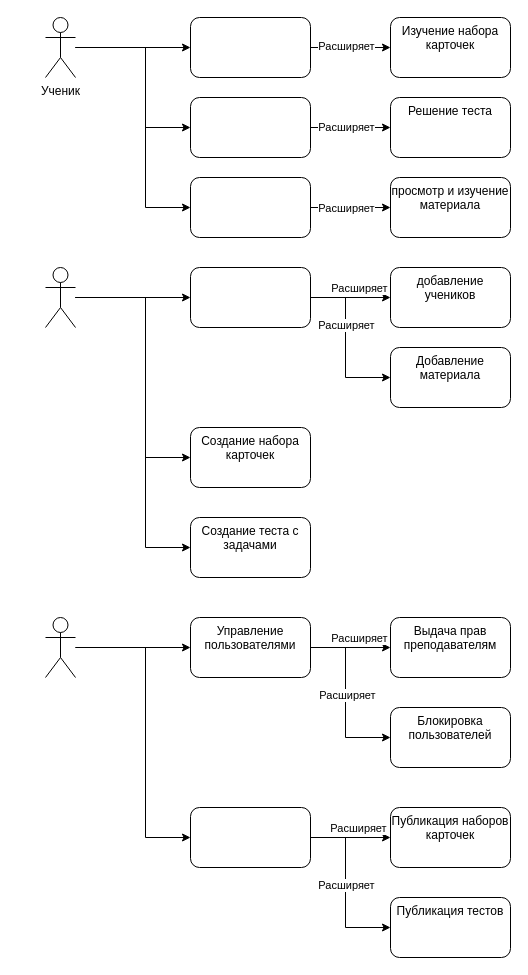
Some shapes in this 528 by 975 pixel diagram are drawn without their labels. Each missing label, with the centre of its shape:
"Администратор" belongs at point (60, 647).
"Выбор набора карточек" belongs at point (250, 47).
"Выбор теста" belongs at point (250, 127).
"Преподаватель" belongs at point (60, 297).
"Присоединение к классу" belongs at point (250, 207).
"Создание класса" belongs at point (250, 297).
"Управление заданиям" belongs at point (250, 837).
